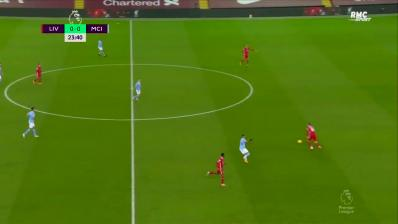football: (295, 138, 304, 144)
player: (206, 150, 228, 190), (22, 106, 40, 140), (305, 122, 323, 153), (236, 44, 258, 69), (237, 132, 253, 166), (132, 78, 144, 103), (33, 61, 44, 86), (96, 39, 108, 59)
